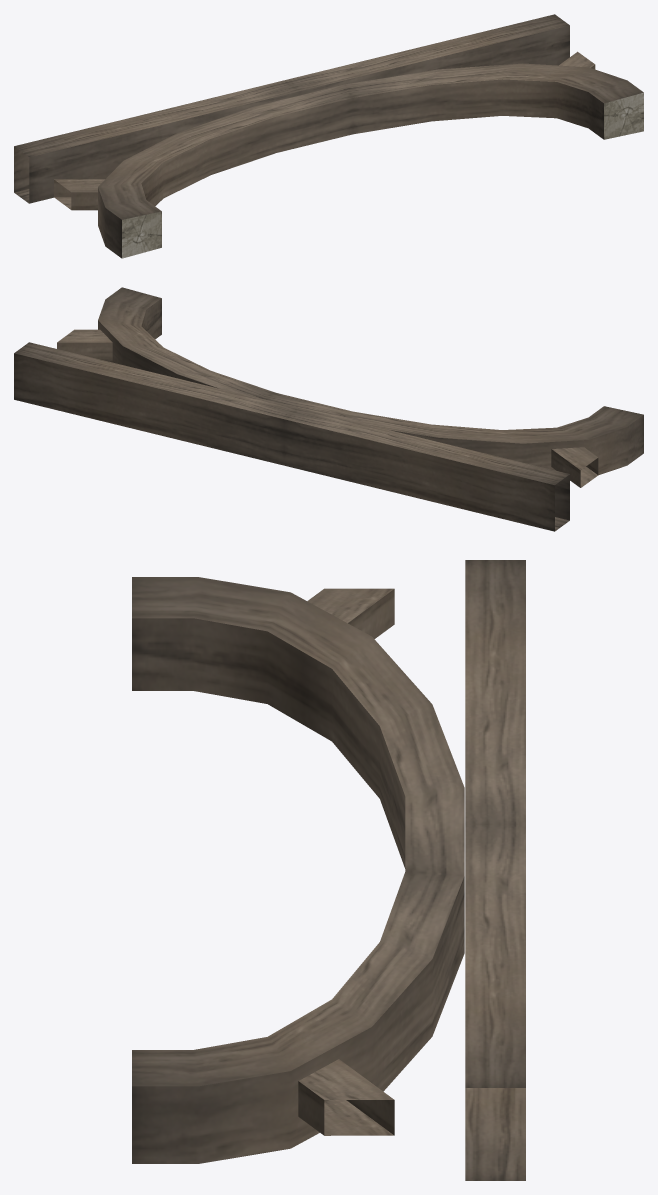
The model's file is Arch_B.fbx.
3 views of the same model, one above another, from view 1: azimuth 30°, elevation 25°; view 2: azimuth 150°, elevation 25°; view 3: azimuth 270°, elevation 25° (orthographic). The views are drawn at different scales.
Parts seen in each view (by area): view 1: Arch_B; view 2: Arch_B; view 3: Arch_B.
Part boxes in pixels (x1,y1,x2,y2): Arch_B: (14, 14, 643, 258); Arch_B: (14, 287, 643, 531); Arch_B: (132, 560, 525, 1180).
Bounding box in the file's own units: 2.54 × 0.2079 × 0.8004.
